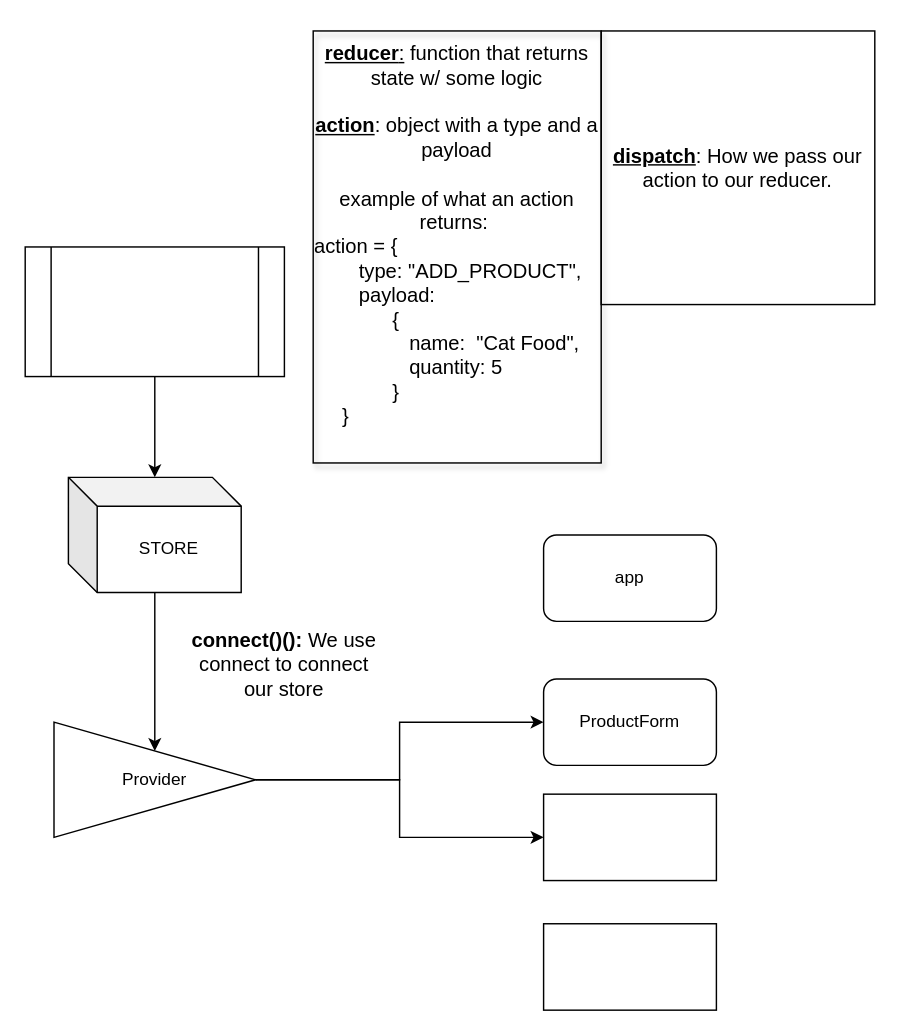
Image size: 900x1035. Some labels were removed from this diagram. The shapes that lost their labels are listed below. From the top down, each one's centre as x and y in pixels, then its label:
At point 154,311: "action -> dispatch-> reducer -> returns our state".
At point 629,837: "ProductsList".
At point 629,966: "Product".
